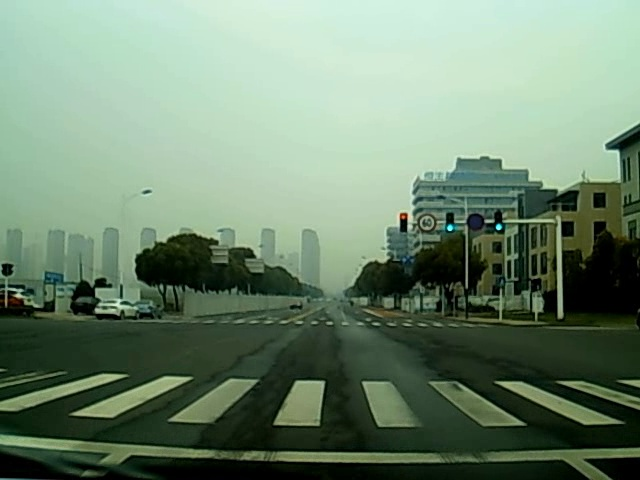Traffic_Light_go: (494, 213, 503, 237), (446, 214, 454, 234)
Traffic_Light_stop: (400, 212, 408, 234)
